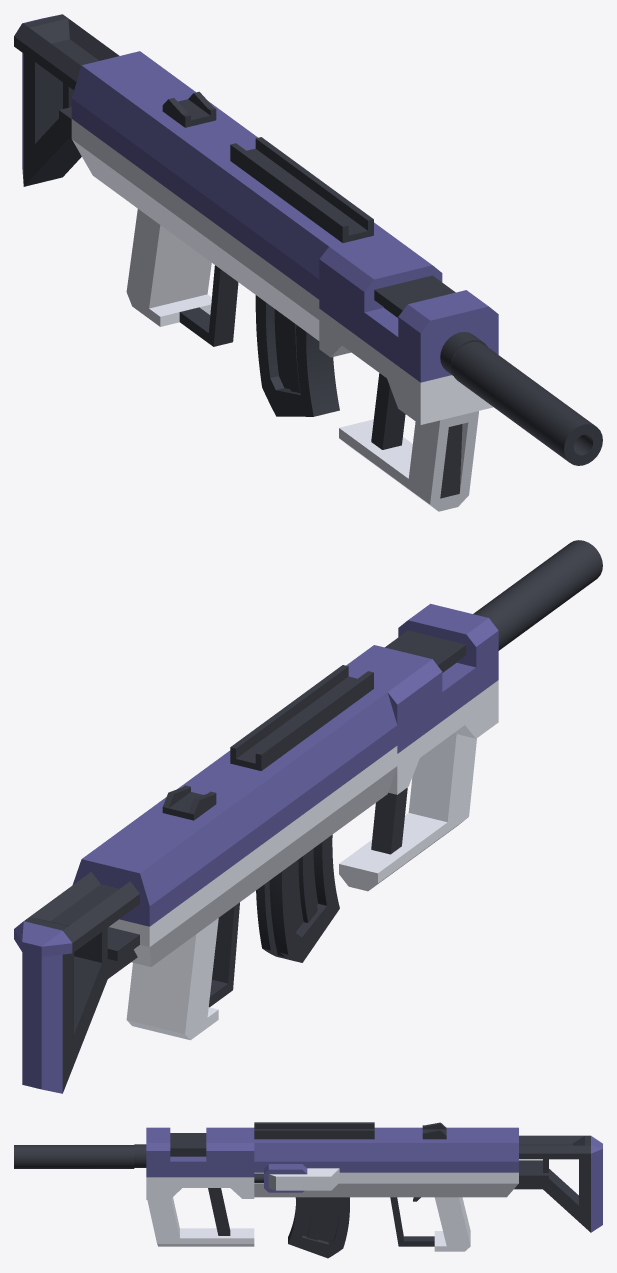
3 renders of one model, top to bottom at view 1: azimuth 30°, elevation 25°; view 2: azimuth 150°, elevation 25°; view 3: azimuth 270°, elevation 25°, orthographic. The views are drawn at different scales.
Visible parts, largest first — view 1: blaster_handleGuard, mediumBlaster_handleGuardSmall, mediumBlaster_center, stock_stealth, attachment_barrelThin, clip_banana, detailRail, mediumBlaster_back, detailTargetSight; view 2: mediumBlaster_handleGuardSmall, blaster_handleGuard, stock_stealth, mediumBlaster_center, clip_banana, mediumBlaster_back, attachment_barrelThin, detailRail, detailTargetSight; view 3: mediumBlaster_handleGuardSmall, blaster_handleGuard, stock_stealth, mediumBlaster_center, clip_banana, attachment_barrelThin, detailRail, attachment_laser, mediumBlaster_back, detailTargetSight.
Boxes of the visible parts, x1,y1,x2,y2 form: blaster_handleGuard: [319, 232, 498, 511]; mediumBlaster_handleGuardSmall: [94, 67, 257, 346]; mediumBlaster_center: [207, 161, 386, 340]; stock_stealth: [14, 14, 119, 186]; attachment_barrelThin: [451, 341, 602, 465]; clip_banana: [255, 295, 339, 416]; detailRail: [230, 137, 373, 242]; mediumBlaster_back: [71, 51, 161, 183]; detailTargetSight: [162, 91, 216, 127]; mediumBlaster_handleGuardSmall: [104, 760, 284, 1040]; blaster_handleGuard: [339, 603, 498, 891]; stock_stealth: [14, 872, 139, 1093]; mediumBlaster_center: [217, 689, 397, 875]; clip_banana: [256, 834, 339, 962]; mediumBlaster_back: [72, 842, 172, 966]; attachment_barrelThin: [473, 540, 602, 650]; detailRail: [230, 665, 373, 770]; detailTargetSight: [162, 785, 216, 820]; mediumBlaster_handleGuardSmall: [374, 1127, 494, 1251]; blaster_handleGuard: [134, 1127, 254, 1246]; stock_stealth: [514, 1135, 602, 1232]; mediumBlaster_center: [254, 1139, 374, 1197]; clip_banana: [288, 1197, 349, 1258]; attachment_barrelThin: [14, 1145, 134, 1168]; detailRail: [254, 1122, 374, 1139]; attachment_laser: [254, 1164, 339, 1192]; mediumBlaster_back: [494, 1127, 518, 1197]; detailTargetSight: [422, 1122, 446, 1139].
Bounding box in the file's own units: 0.5632 × 1.18 × 4.9.
